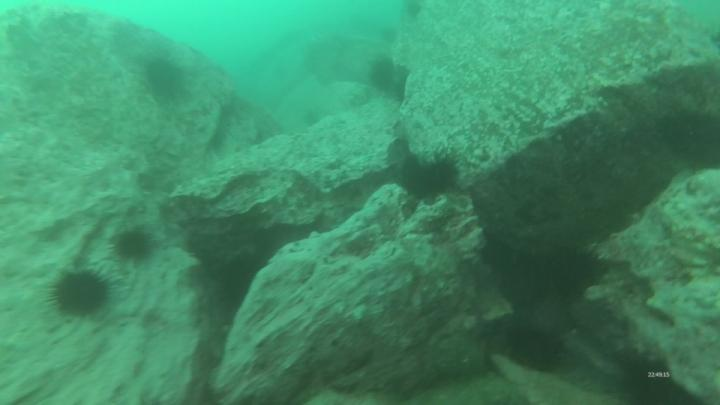echinus: (45, 268, 118, 322), (498, 249, 557, 312), (665, 107, 720, 171), (399, 152, 462, 205), (504, 324, 566, 375), (612, 355, 674, 405), (143, 55, 187, 101), (108, 227, 157, 267), (366, 53, 400, 98), (378, 24, 400, 51), (406, 1, 427, 23)
